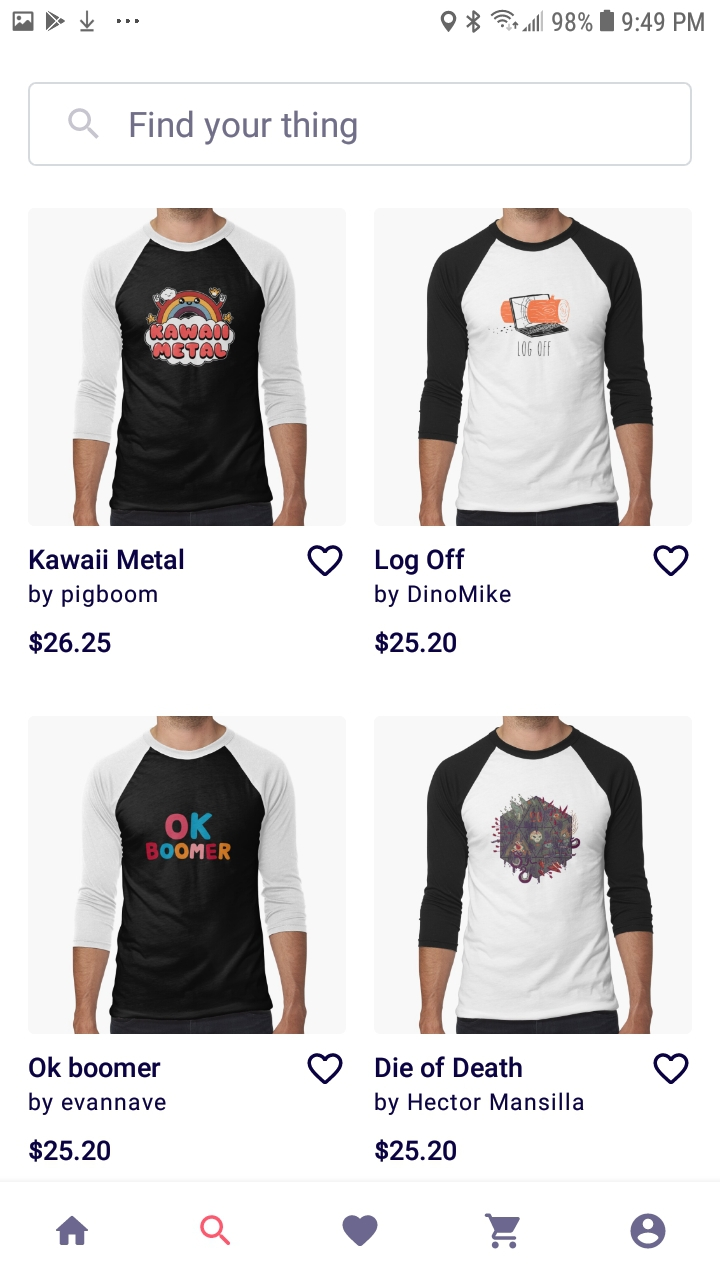EditText: (29, 83, 692, 167)
Icon: (631, 1213, 667, 1249), (485, 1213, 520, 1249), (653, 1053, 689, 1085), (308, 545, 344, 577), (343, 1214, 379, 1246), (308, 1053, 344, 1084), (654, 546, 689, 577), (56, 1216, 89, 1246), (69, 109, 100, 140), (200, 1214, 231, 1245)
Image: (29, 717, 346, 1035), (374, 717, 691, 1035), (375, 209, 692, 527), (30, 209, 347, 527)
Text: (375, 1056, 585, 1116), (29, 548, 184, 608), (29, 1056, 168, 1116), (374, 548, 511, 608), (131, 111, 358, 146), (29, 1139, 111, 1163), (375, 1138, 457, 1162), (30, 631, 112, 655), (375, 631, 457, 654)
UpperTaskBar: (1, 1, 720, 34)
